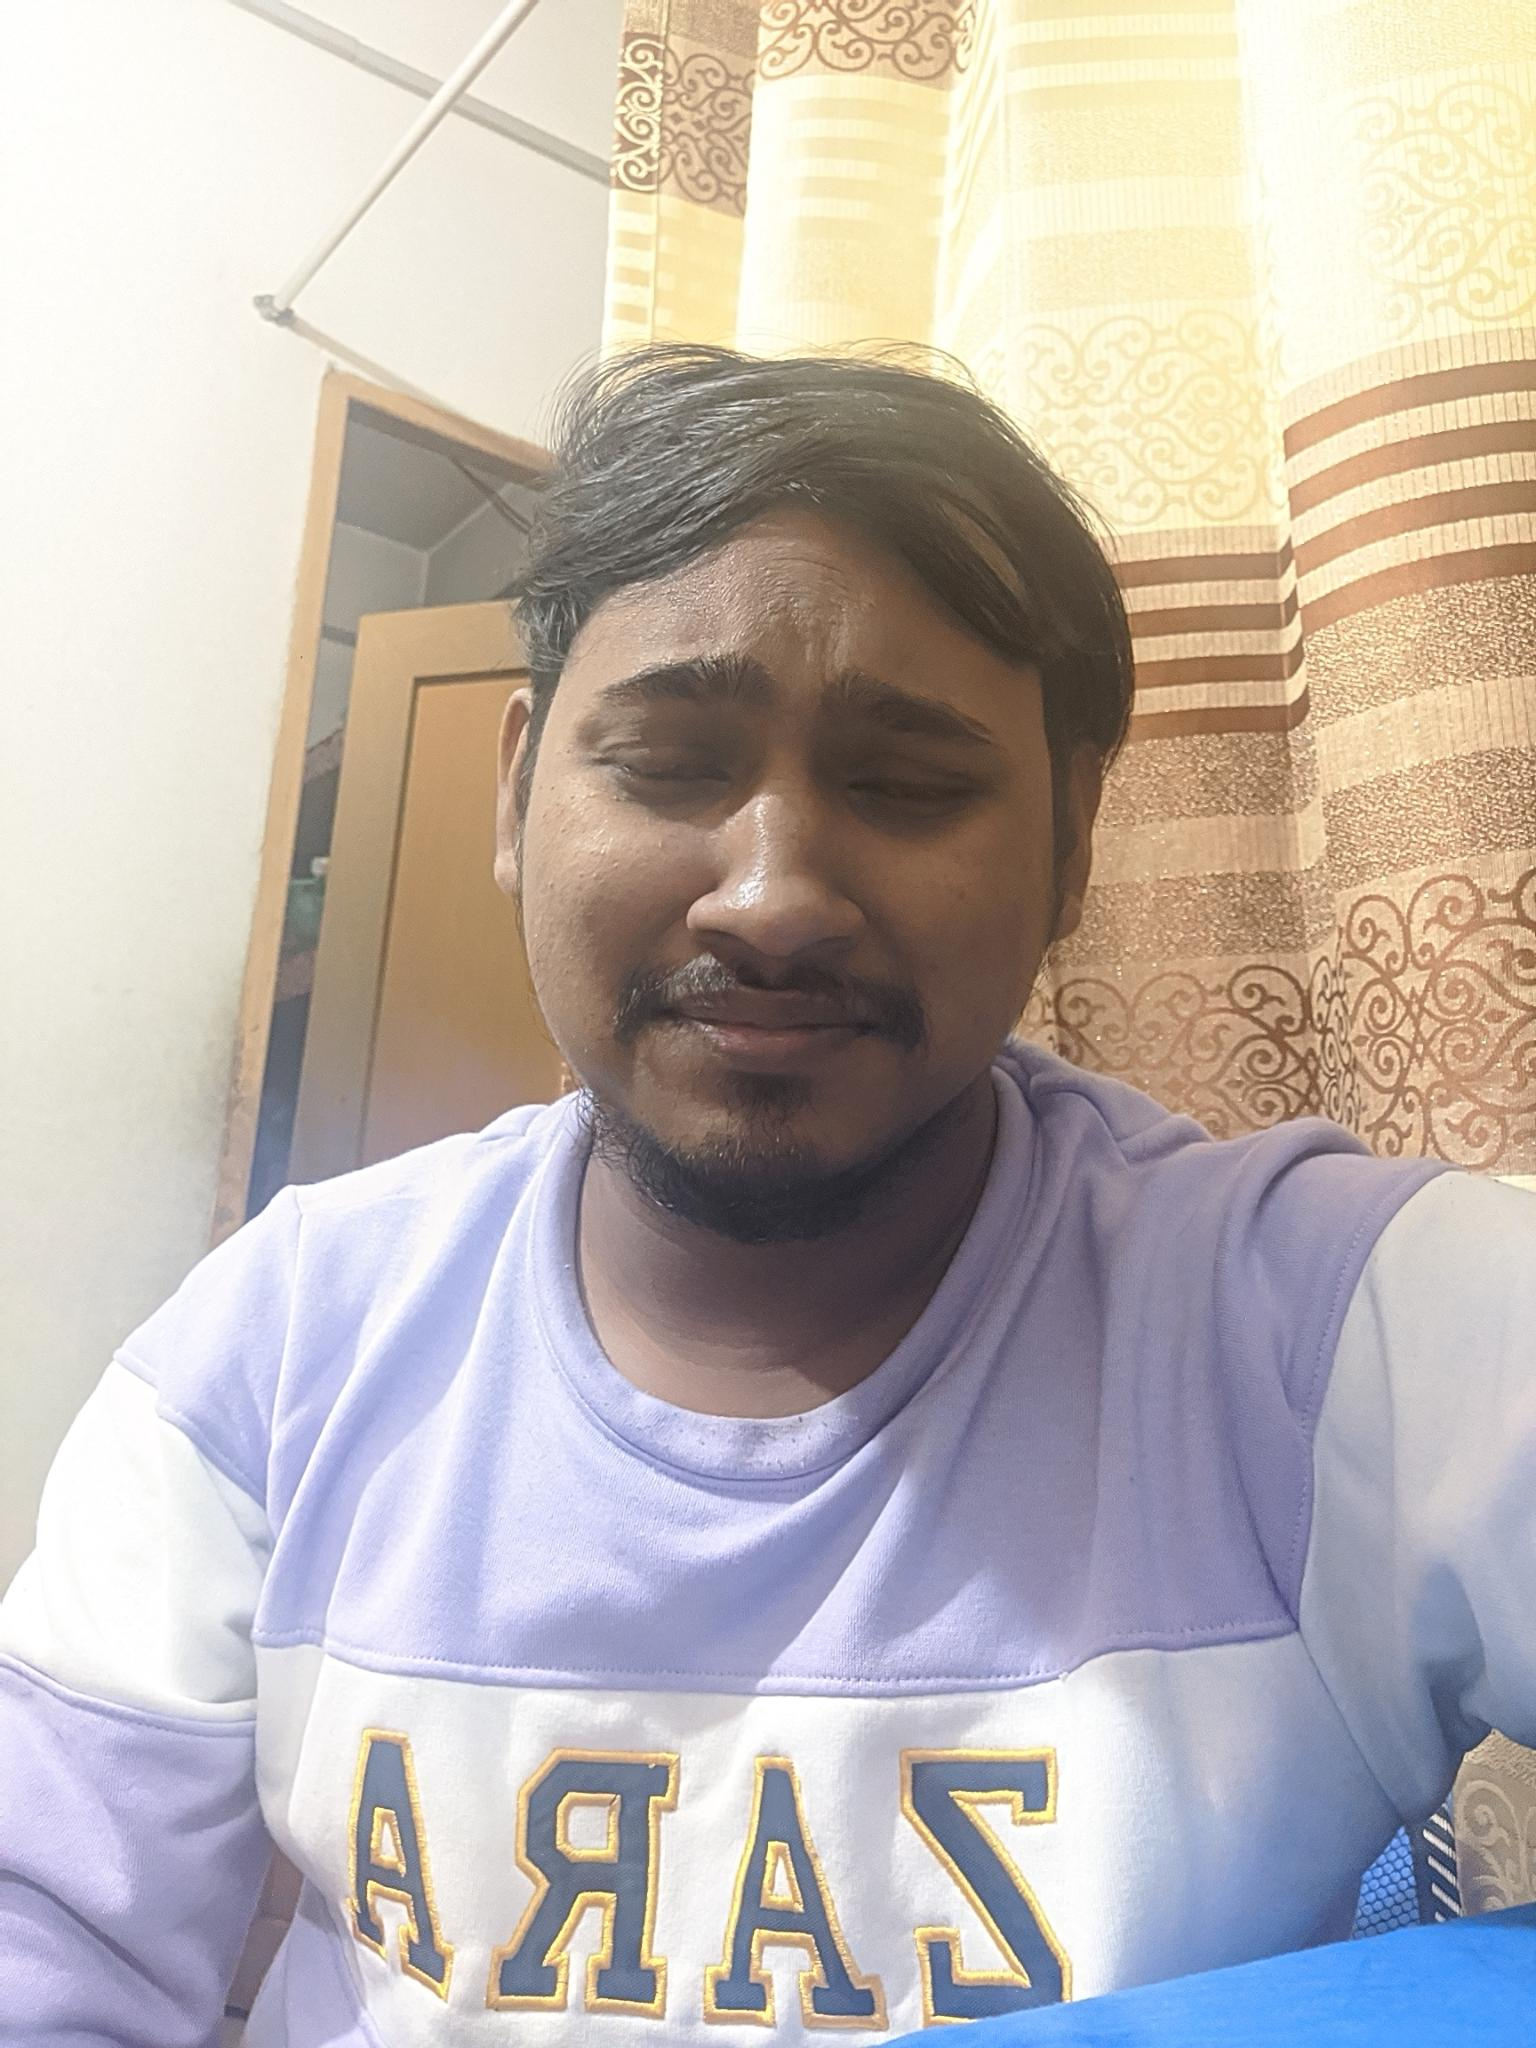Sad: (539, 585, 1041, 1193)
